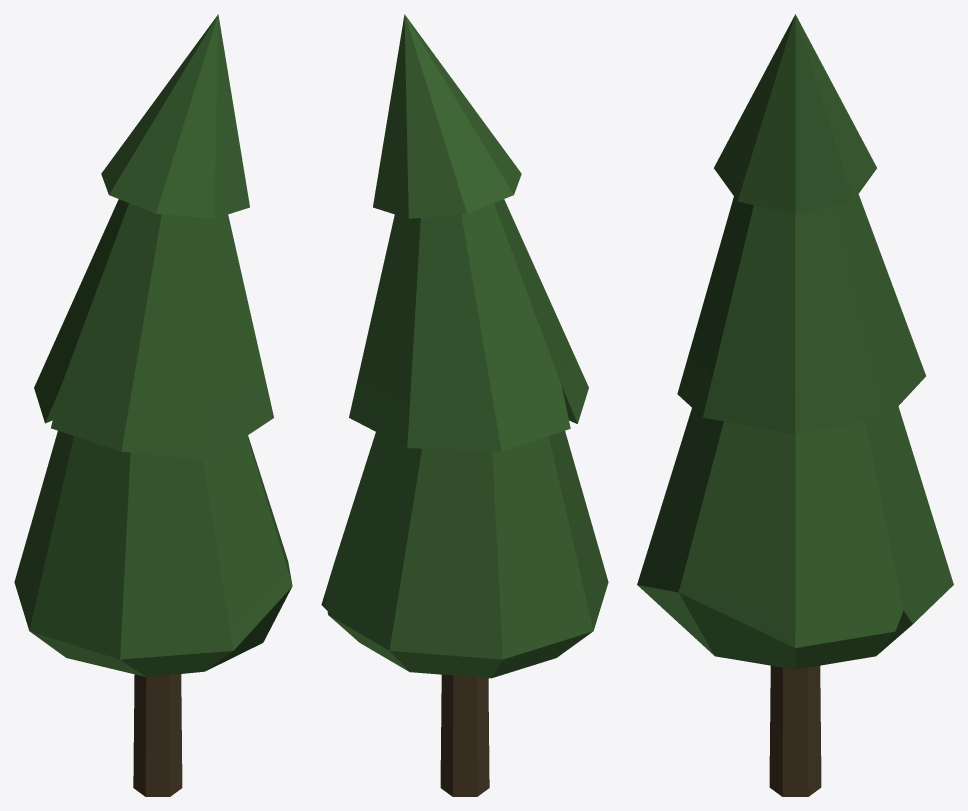
The model's file is Tree_4.fbx.
3 renders of one model, left to right at view 1: azimuth 30°, elevation 25°; view 2: azimuth 150°, elevation 25°; view 3: azimuth 270°, elevation 25°, orthographic. The views are drawn at different scales.
Parts seen in each view (by area): view 1: Tree_4; view 2: Tree_4; view 3: Tree_4.
Part boxes in pixels (x1,y1,x2,y2): Tree_4: [14, 14, 292, 796]; Tree_4: [321, 14, 608, 796]; Tree_4: [637, 14, 953, 796].
Size of the model in its own units: 244 by 683 by 244.
